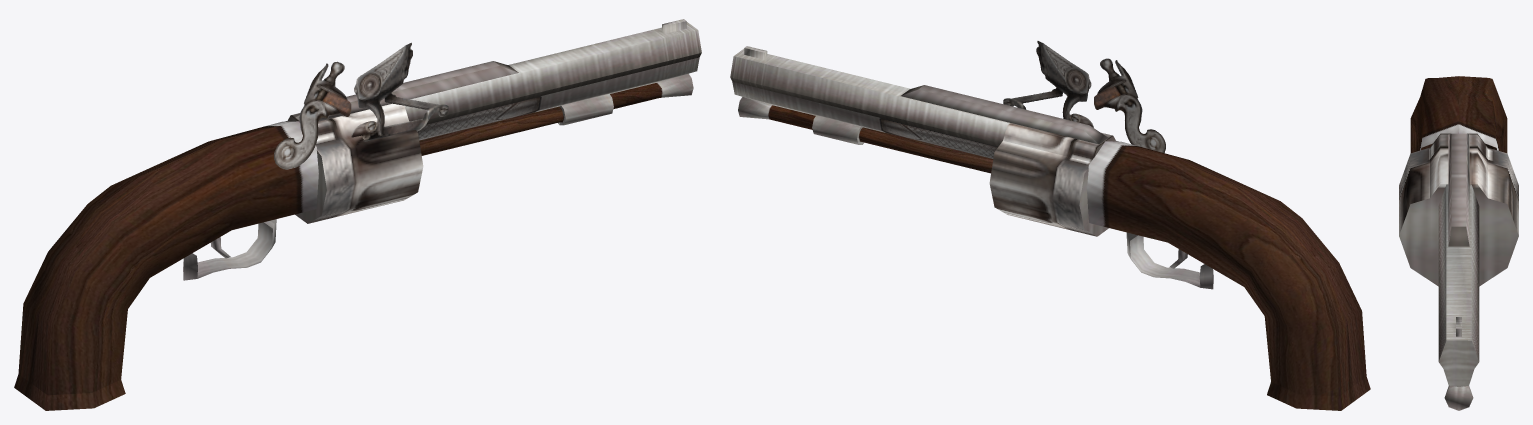
File: flintlock.fbx
The picture shows the model from 3 angles, left to right: view 1: azimuth 30°, elevation 25°; view 2: azimuth 150°, elevation 25°; view 3: azimuth 270°, elevation 25°; orthographic projection. The views are drawn at different scales.
Visible parts, largest first — view 1: Cube; view 2: Cube; view 3: Cube.
Part boxes in pixels (left/top/right/bottom): Cube: left=14, top=19, right=701, bottom=410; Cube: left=730, top=41, right=1370, bottom=410; Cube: left=1399, top=76, right=1518, bottom=410.
Size of the model in its own units: 924 by 402 by 135.
Materials: 1 (1 with a texture image).
